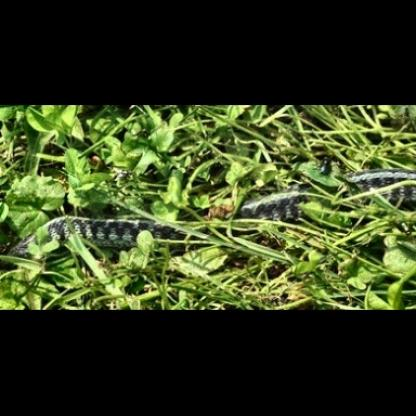Snake: (246, 165, 416, 256)
